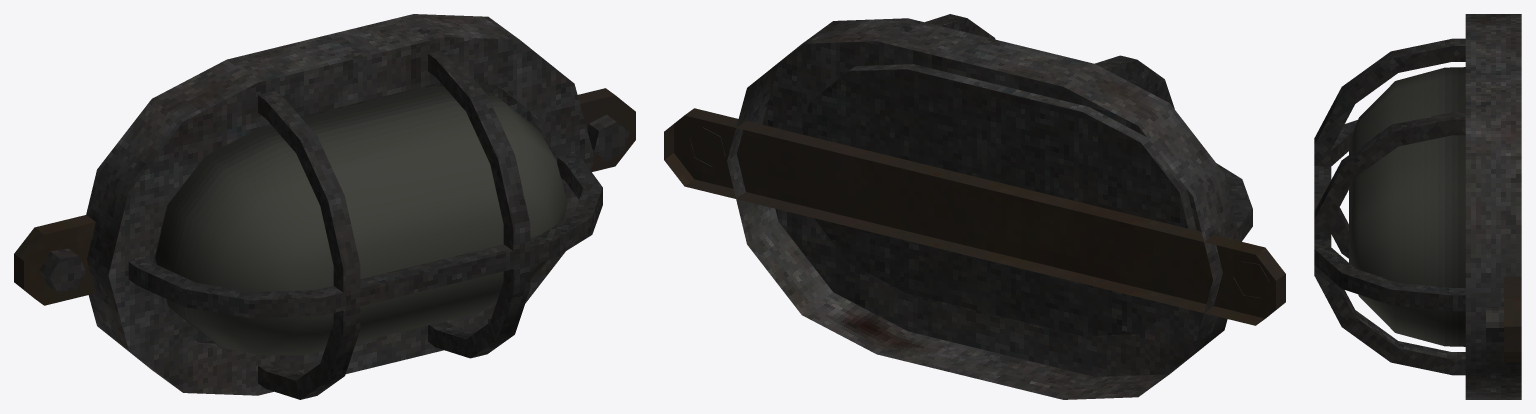
Rendered from lamp_2_off.glb.
3 renders of one model, left to right at view 1: azimuth 30°, elevation 25°; view 2: azimuth 150°, elevation 25°; view 3: azimuth 270°, elevation 25°, orthographic. The views are drawn at different scales.
Parts seen in each view (by area): view 1: lamp_2_off; view 2: lamp_2_off; view 3: lamp_2_off.
Part boxes in pixels (x1,y1,x2,y2): lamp_2_off: (14,14,635,399); lamp_2_off: (664,14,1285,399); lamp_2_off: (1314,14,1521,399).
Size of the model in its own units: 0.36 by 0.176 by 0.119.
Materials: 4 (4 with a texture image).
